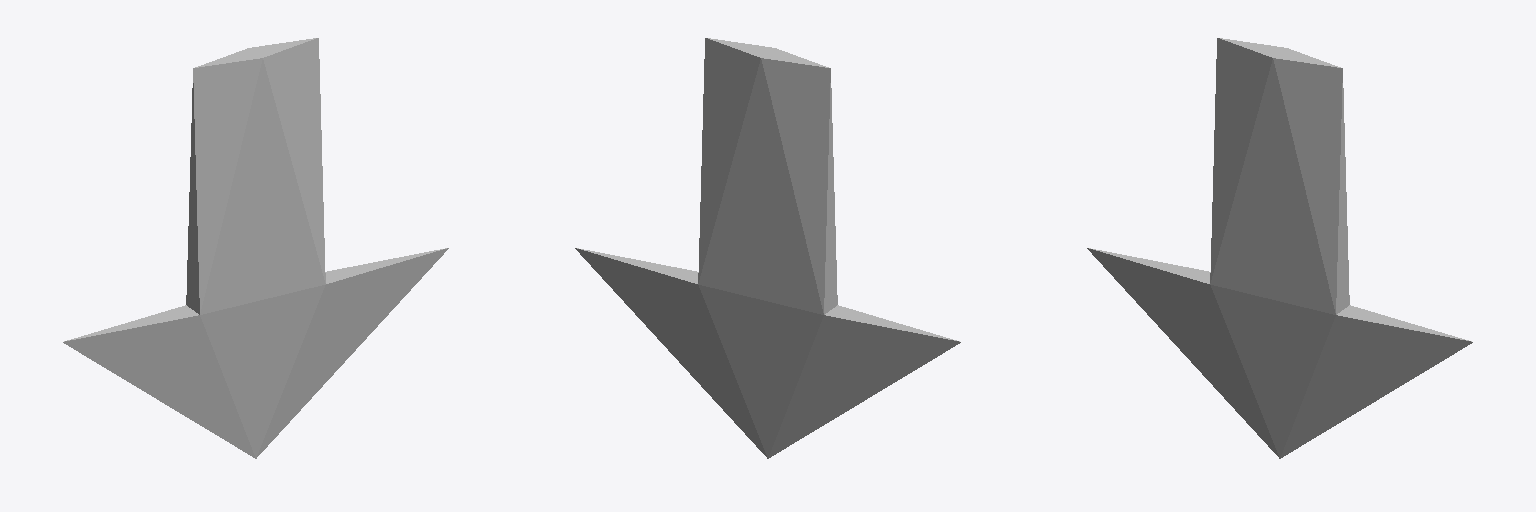
The model's file is arrowplayer.obj.
3 renders of one model, left to right at view 1: azimuth 30°, elevation 25°; view 2: azimuth 150°, elevation 25°; view 3: azimuth 330°, elevation 25°, orthographic.
Parts seen in each view (by area): view 1: 立方体; view 2: 立方体; view 3: 立方体.
Boxes of the visible parts, x1,y1,x2,y2 form: 立方体: [63, 38, 448, 458]; 立方体: [575, 38, 960, 458]; 立方体: [1087, 38, 1472, 458].
Size of the model in its own units: 2 by 2 by 0.1231.